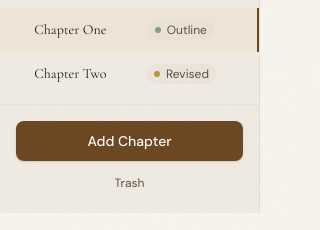
Test: Sidebar › closes status dropdown on outside click
Click the button with aria-label "Chapter status: Outline" at x=181, y=30, box [147,20,215,40]
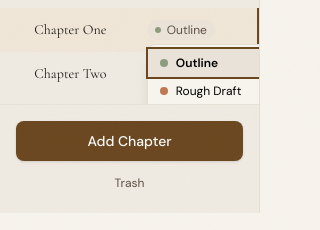
Click outside the dropdown (on the sidebar region)
Click the element named "Chapters" at x=130, y=106, box [0,0,260,213]
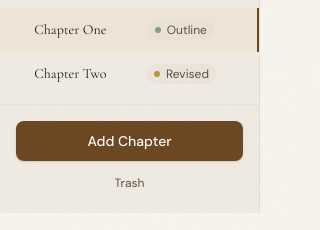
Now the list "Outline Rough Draft" is gone
